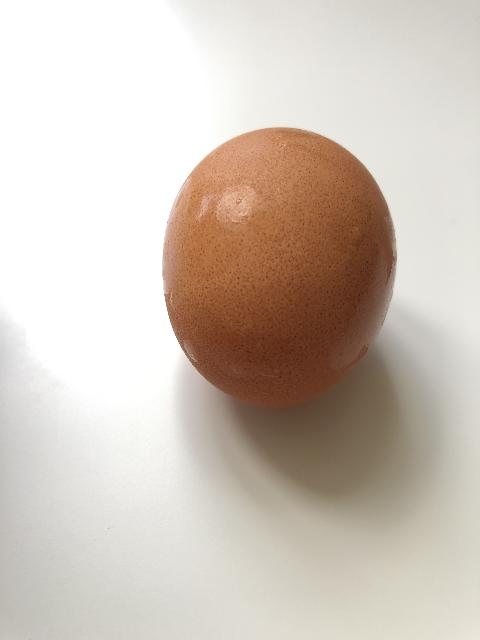Sano: (163, 125, 398, 407)
